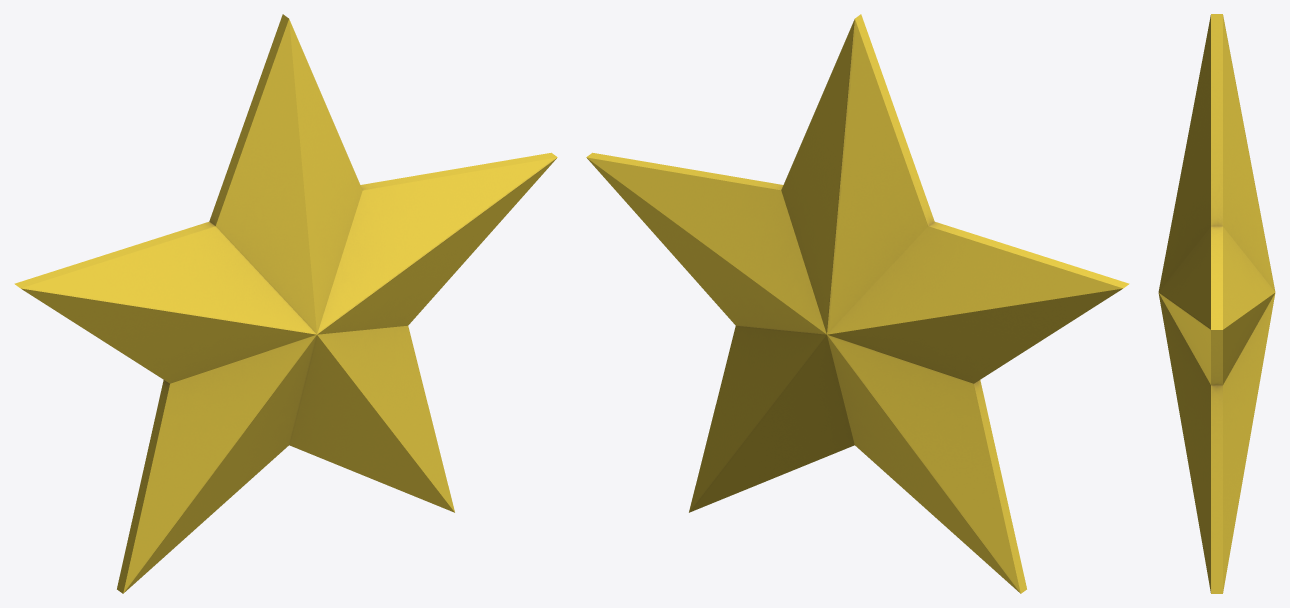
The model's file is star.glb.
The picture shows the model from 3 angles, left to right: view 1: azimuth 30°, elevation 25°; view 2: azimuth 150°, elevation 25°; view 3: azimuth 270°, elevation 25°; orthographic projection. The views are drawn at different scales.
Parts seen in each view (by area): view 1: Star; view 2: Star; view 3: Star.
Part boxes in pixels (x1,y1,x2,y2): Star: (14,14,557,593); Star: (586,14,1129,593); Star: (1158,14,1275,593).
Size of the model in its own units: 0.6072 by 0.5775 by 0.1216.
Materials: 1 (1 with a texture image).
